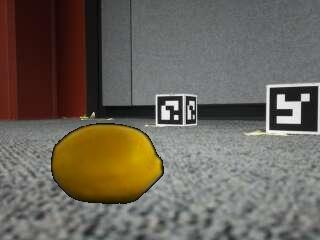lemon: (52, 124, 162, 202)
